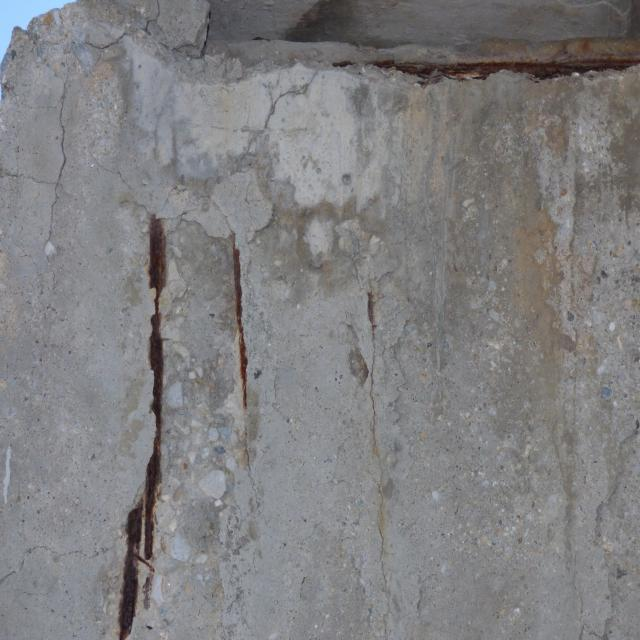corrosion: (107, 197, 191, 640), (360, 5, 640, 105), (221, 223, 276, 507), (358, 276, 405, 602)
